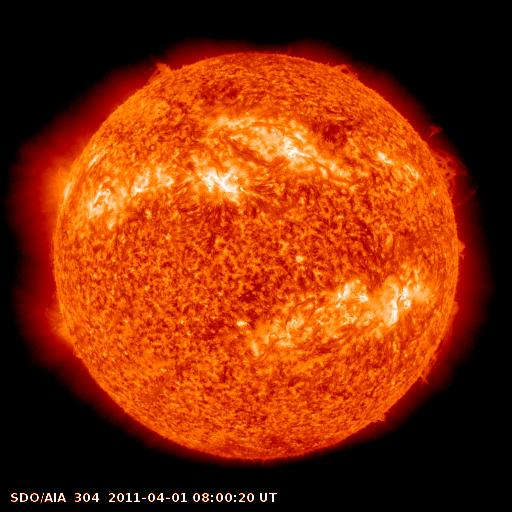prominence: (406, 107, 486, 212), (410, 298, 470, 386), (140, 50, 178, 91), (446, 231, 481, 270), (328, 52, 360, 85)
